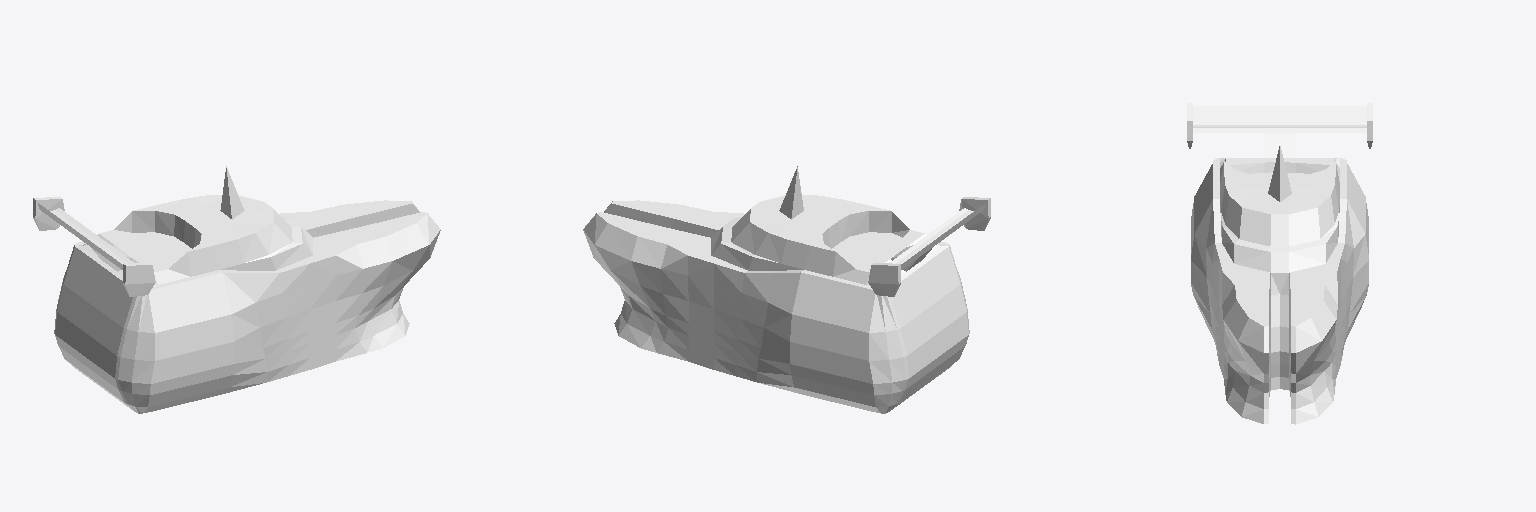
File: ferry.obj
3 views of the same model, side by side, from view 1: azimuth 30°, elevation 25°; view 2: azimuth 150°, elevation 25°; view 3: azimuth 270°, elevation 25° (orthographic).
Visible parts, largest first — view 1: Plane001; view 2: Plane001; view 3: Plane001.
Part boxes in pixels (left/top/right/bottom): Plane001: left=33, top=166, right=440, bottom=413; Plane001: left=583, top=166, right=990, bottom=413; Plane001: left=1187, top=103, right=1372, bottom=424.
Bounding box in the file's own units: 314 × 165 × 142.